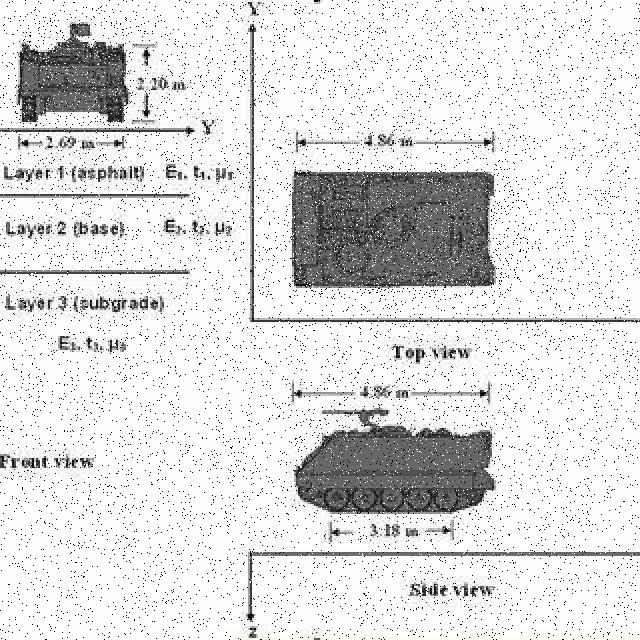MIL_MBT: (289, 169, 519, 297), (296, 403, 510, 515), (12, 16, 132, 126)
